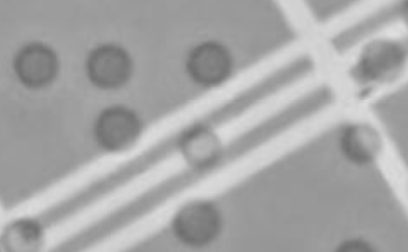cell: (165, 194, 227, 250), (80, 36, 138, 95), (91, 99, 149, 156), (179, 32, 237, 89), (7, 35, 64, 93), (174, 118, 230, 171), (335, 113, 387, 167), (355, 35, 405, 85), (1, 208, 49, 251)
